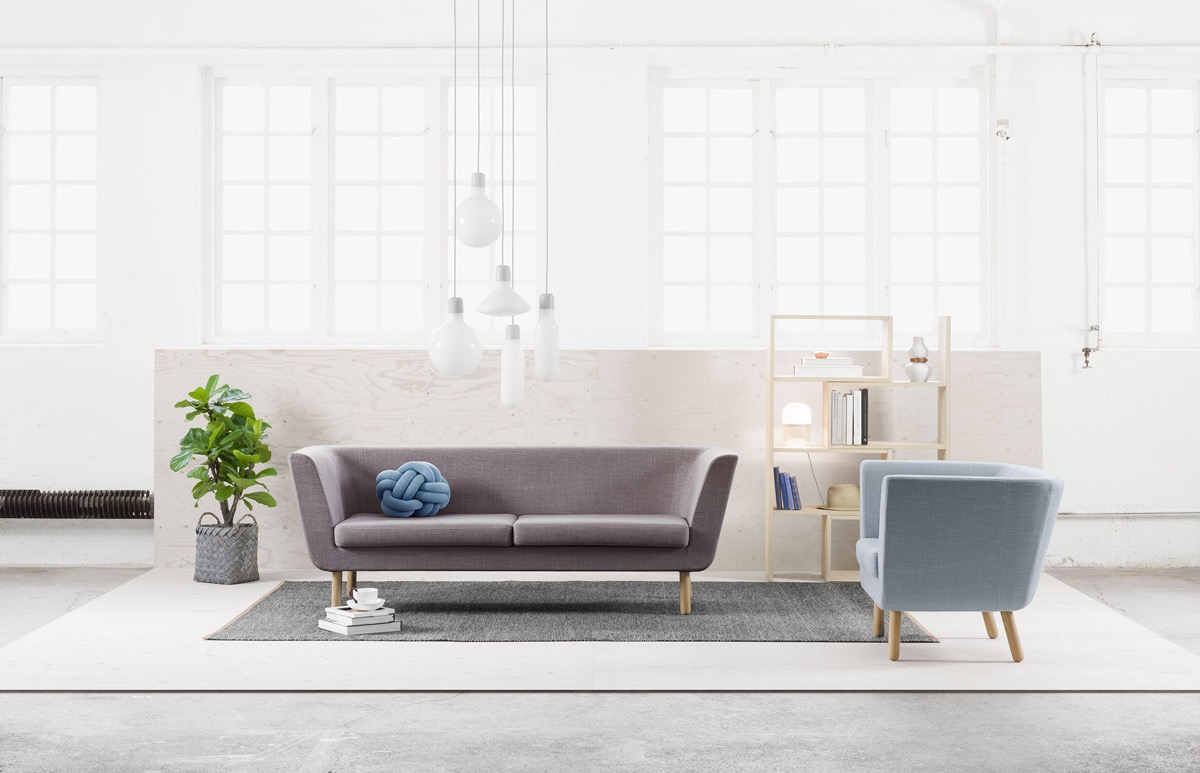chair: (855, 452, 1062, 667)
small plant: (167, 371, 282, 585)
sofa: (285, 437, 741, 619)
